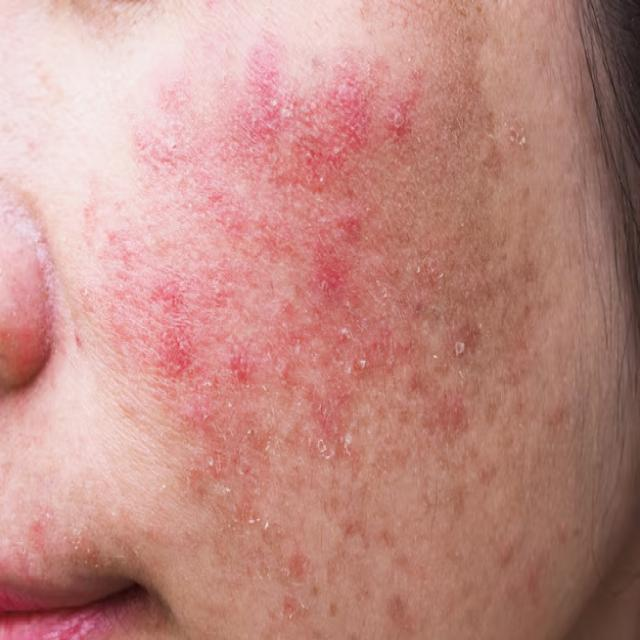flakiness: (101, 98, 513, 550)
